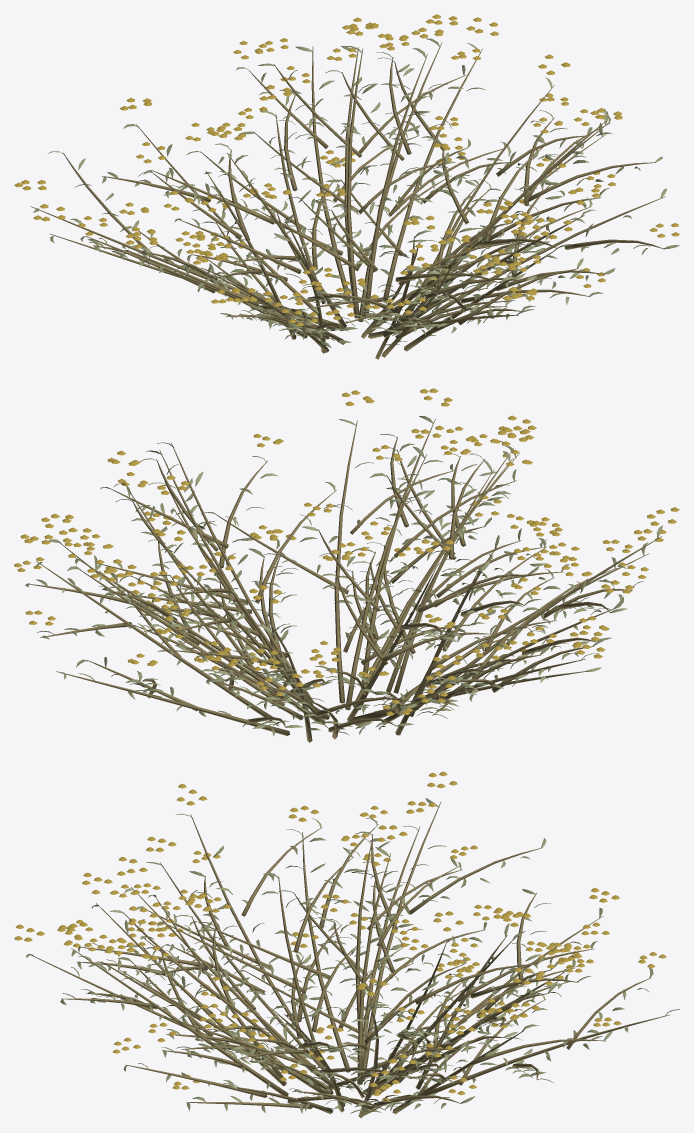
File: Immortelle_Etale_LOD0.fbx
The picture shows the model from 3 angles, top to bottom: view 1: azimuth 30°, elevation 25°; view 2: azimuth 150°, elevation 25°; view 3: azimuth 270°, elevation 25°; orthographic projection. The views are drawn at different scales.
Visible parts, largest first — view 1: Immortelle_Etale; view 2: Immortelle_Etale; view 3: Immortelle_Etale.
Boxes of the visible parts, x1,y1,x2,y2 form: Immortelle_Etale: (14, 14, 679, 359); Immortelle_Etale: (14, 388, 679, 742); Immortelle_Etale: (14, 771, 679, 1118).
Bounding box in the file's own units: 89.89 × 35.6 × 92.38.
